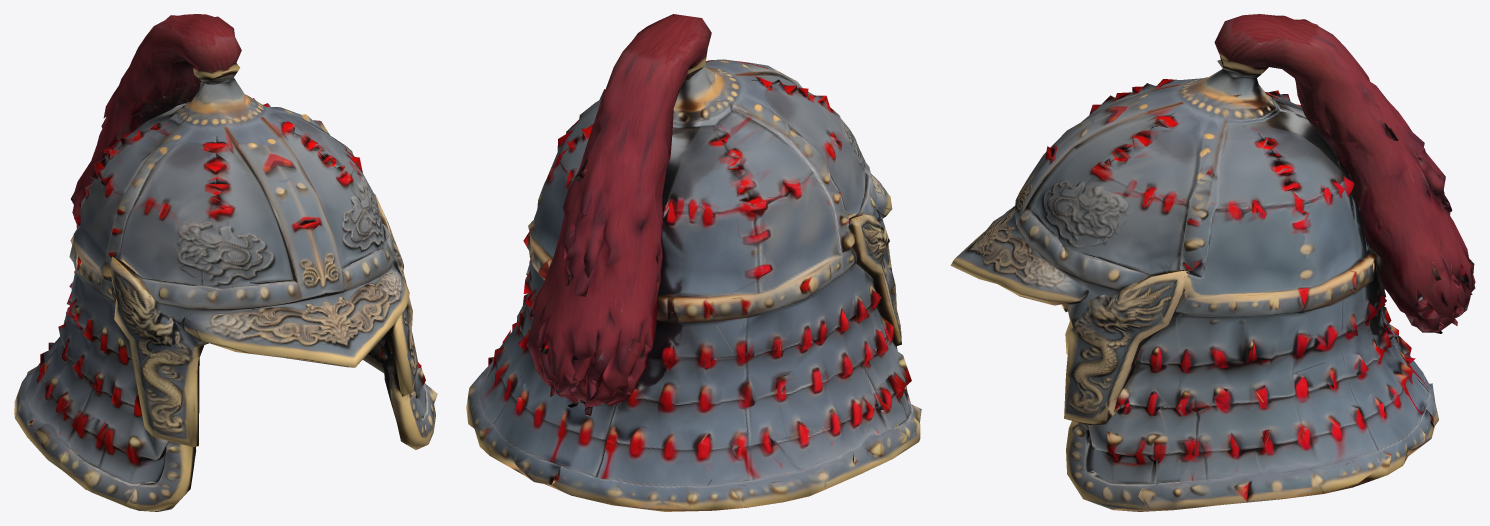
File: guofengtoukui9.fbx
3 views of the same model, side by side, from view 1: azimuth 30°, elevation 25°; view 2: azimuth 150°, elevation 25°; view 3: azimuth 270°, elevation 25° (orthographic). The views are drawn at different scales.
Visible parts, largest first — view 1: Mesh_0.001; view 2: Mesh_0.001; view 3: Mesh_0.001.
Boxes of the visible parts, x1,y1,x2,y2 form: Mesh_0.001: (14, 14, 437, 511); Mesh_0.001: (466, 14, 921, 511); Mesh_0.001: (950, 14, 1475, 511).
Size of the model in its own units: 0.8275 by 0.8756 by 0.9939.
